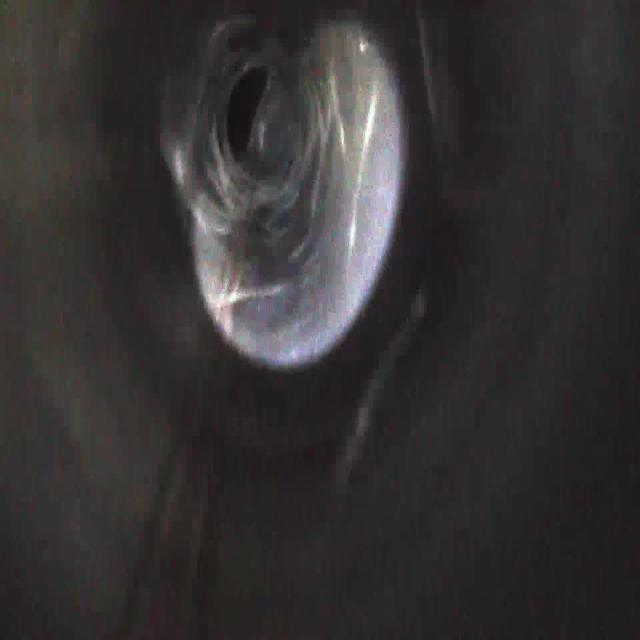crack: (301, 55, 361, 172), (164, 95, 218, 188), (179, 195, 244, 271), (278, 218, 324, 288)
